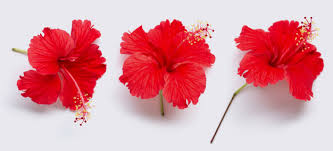hybiscus: (9, 20, 108, 128)
